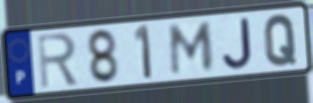1: (132, 23, 155, 81)
8: (85, 27, 120, 85)
J: (220, 15, 255, 72)
M: (169, 20, 216, 77)
Q: (263, 13, 299, 69)
R: (35, 31, 81, 91)
